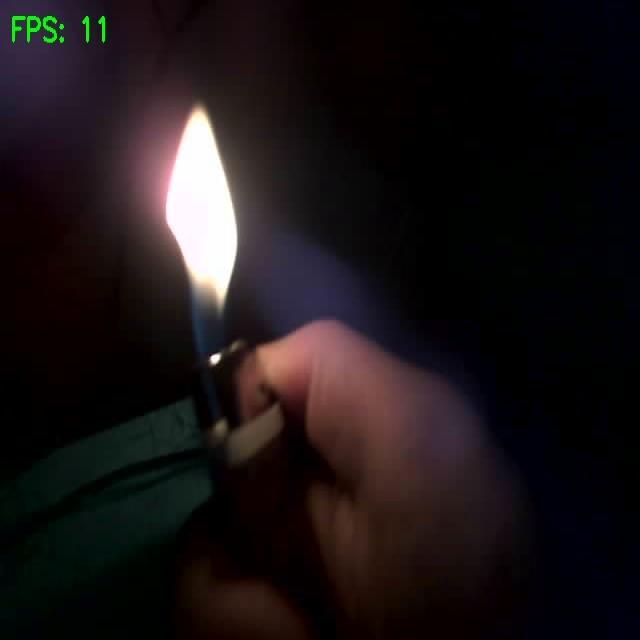fire: (166, 107, 236, 309)
